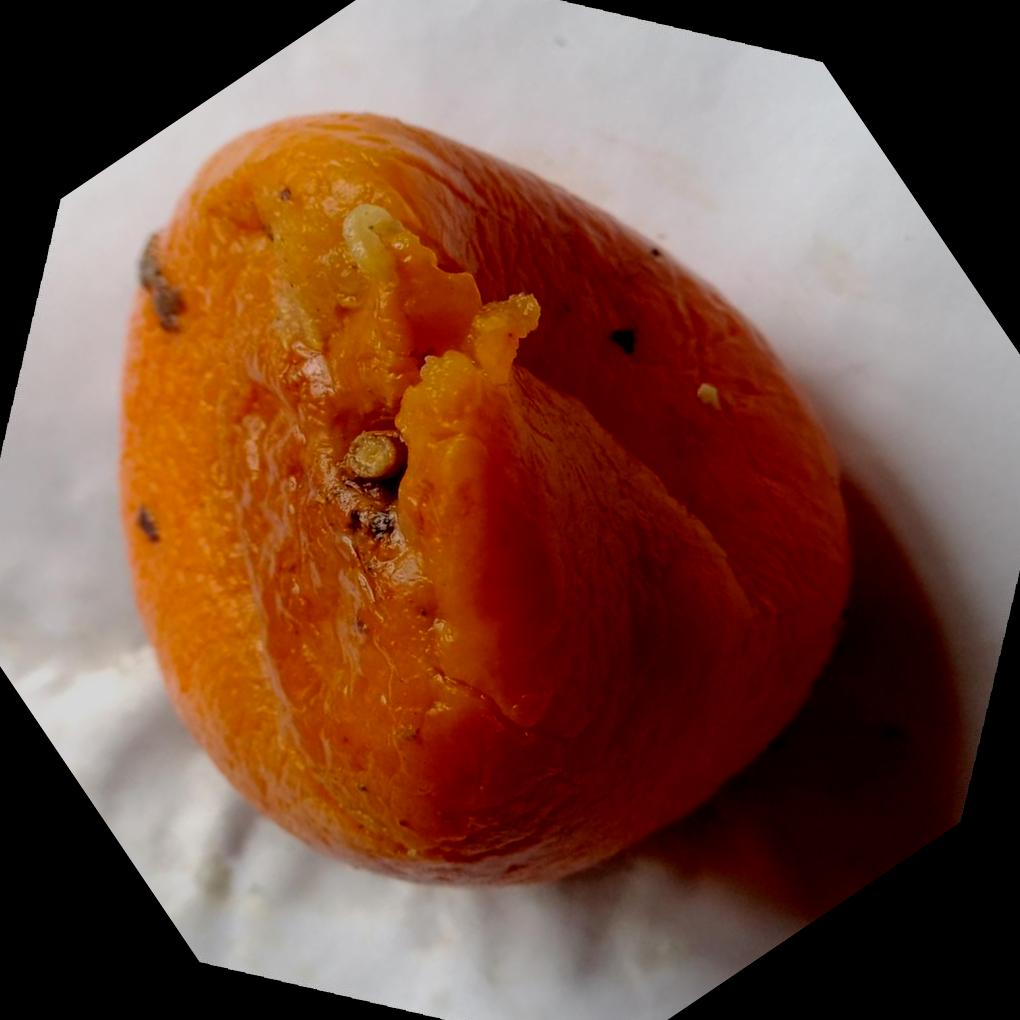FreshOrange: (117, 109, 859, 893)
